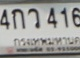num4: (1, 8, 11, 31)
txt01: (10, 8, 26, 30)
txt32: (27, 8, 41, 30)
